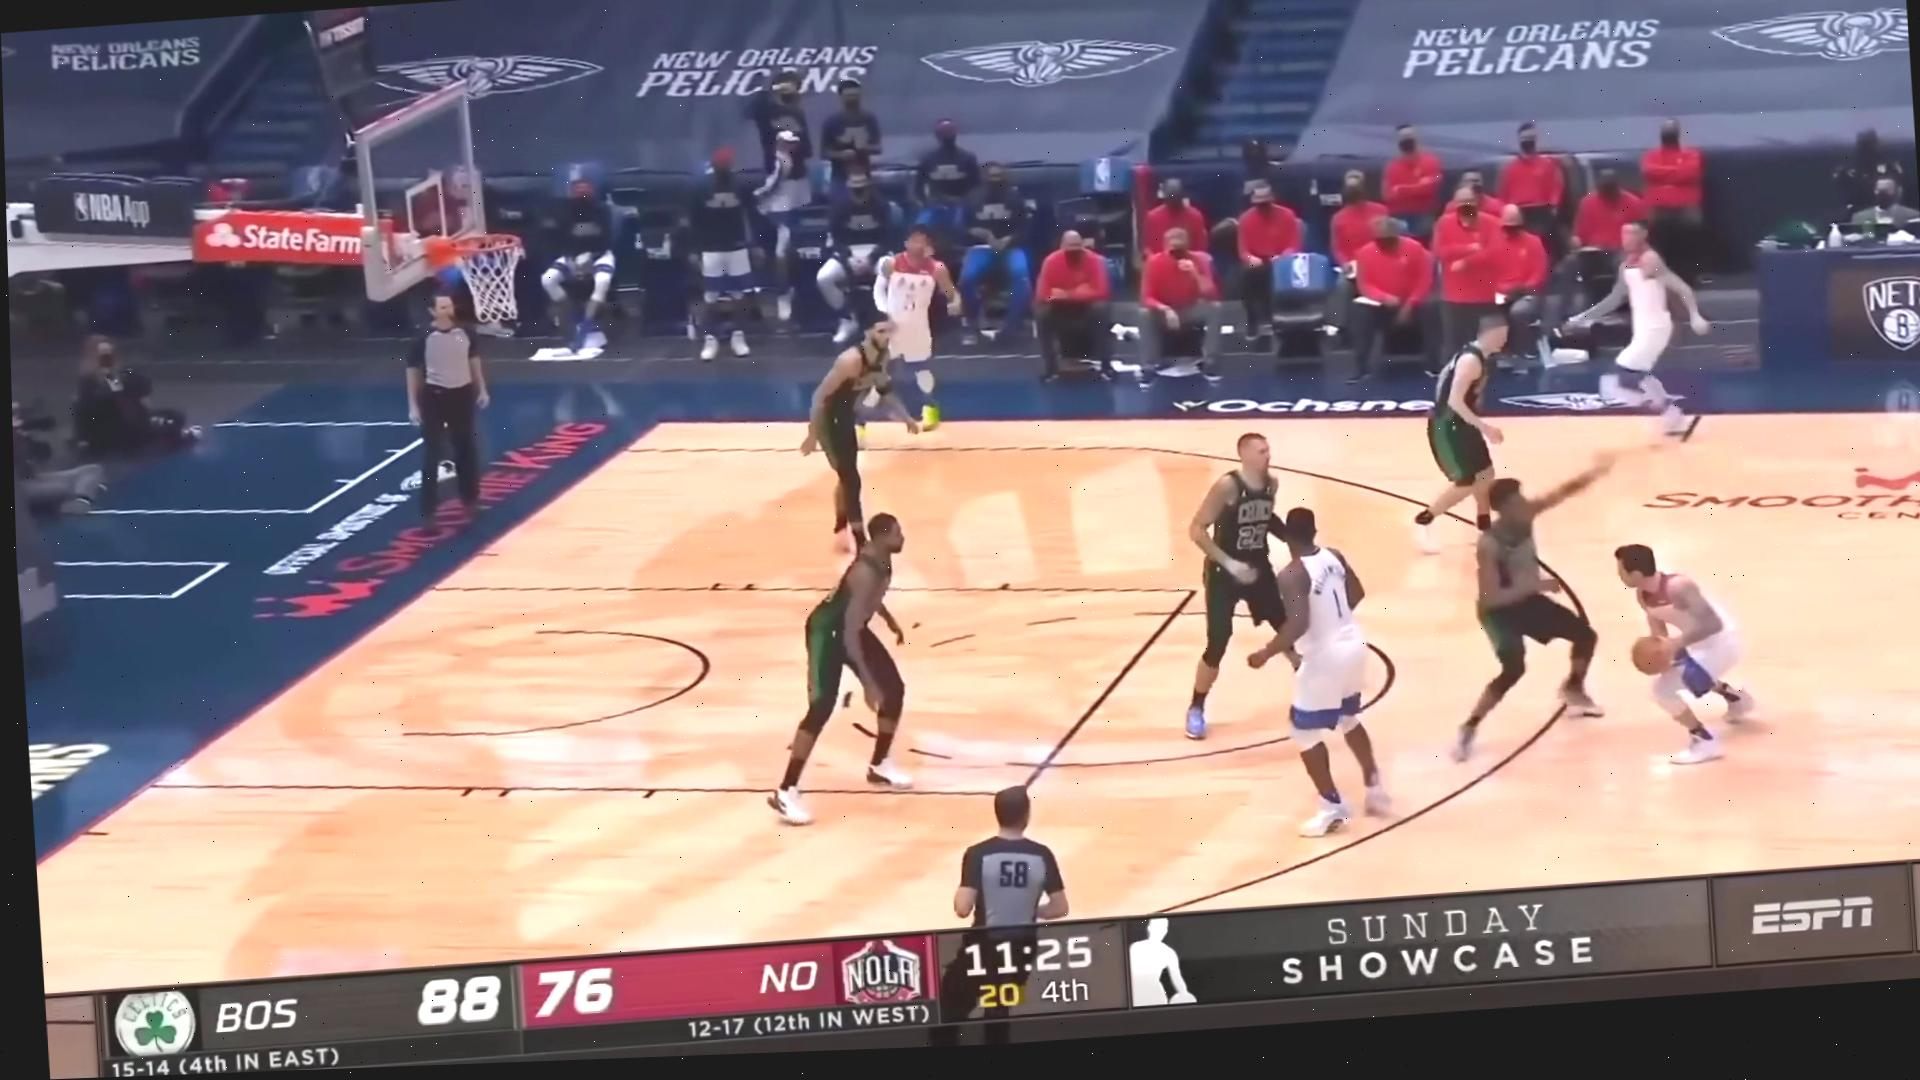no_foul: (1424, 439, 1777, 807)
